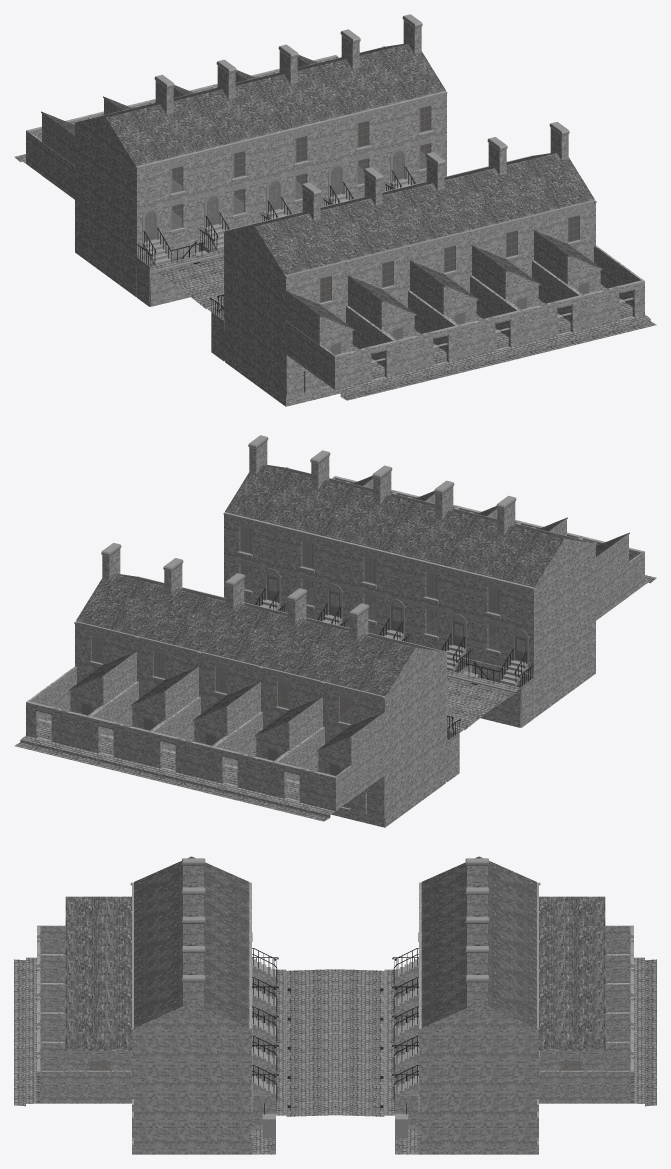
Rendered from bwterrace1.fbx.
3 renders of one model, top to bottom at view 1: azimuth 30°, elevation 25°; view 2: azimuth 150°, elevation 25°; view 3: azimuth 270°, elevation 25°, orthographic. The views are drawn at different scales.
Parts seen in each view (by area): view 1: arch.000; view 2: arch.000; view 3: arch.000.
Boxes of the visible parts, box(x1,y1,x2,y2) form: arch.000: box(14, 14, 656, 406); arch.000: box(14, 435, 656, 827); arch.000: box(14, 856, 656, 1154).
Size of the model in its own units: 3297 by 1853 by 6134.
Materials: 8 (5 with a texture image).
